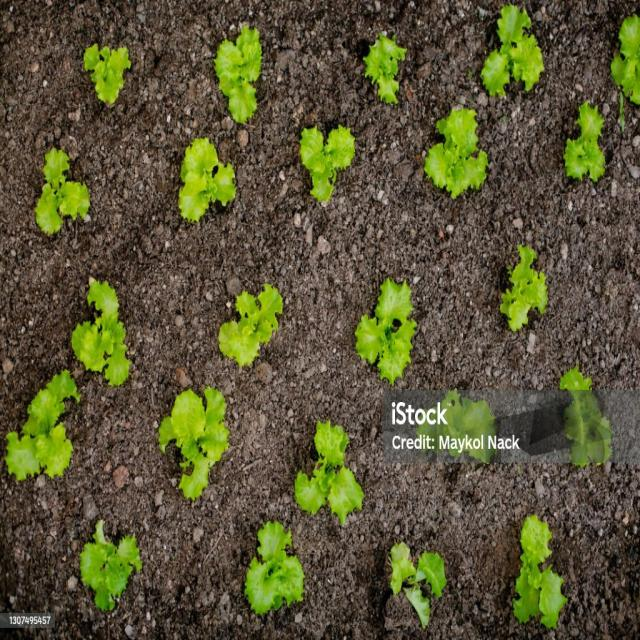Lettuce-Not-Ready-to-Harvest: (5, 369, 77, 484), (296, 420, 366, 525), (166, 392, 231, 497), (72, 278, 130, 389), (425, 104, 490, 194), (360, 278, 414, 384), (218, 280, 283, 367), (248, 517, 305, 615), (516, 512, 562, 631), (81, 523, 141, 614), (482, 9, 543, 97), (177, 134, 235, 225), (387, 542, 446, 629), (212, 27, 262, 128), (500, 235, 549, 338), (303, 120, 356, 208), (36, 148, 90, 234), (564, 100, 608, 181), (86, 41, 132, 108), (365, 34, 403, 105)
